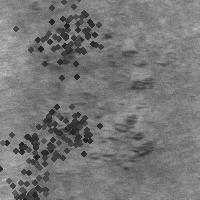rolled-in_scale: (32, 105, 163, 173), (15, 0, 115, 84), (0, 98, 82, 196), (72, 30, 164, 117), (25, 35, 91, 136), (33, 93, 107, 167), (0, 167, 51, 200)
